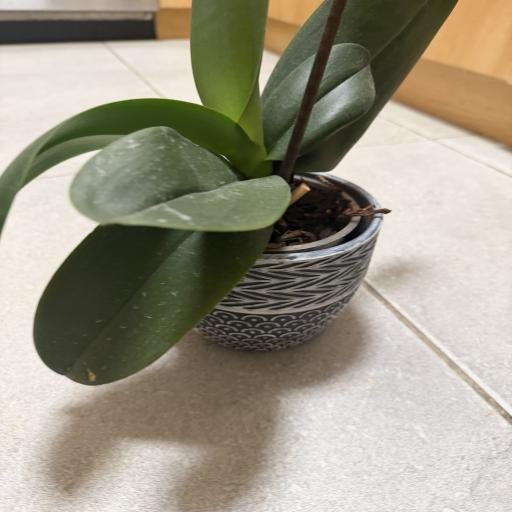Plant Pot: (146, 173, 393, 353)
